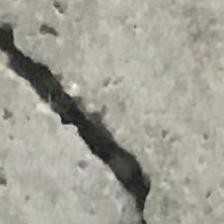Crack: (0, 11, 184, 224)
